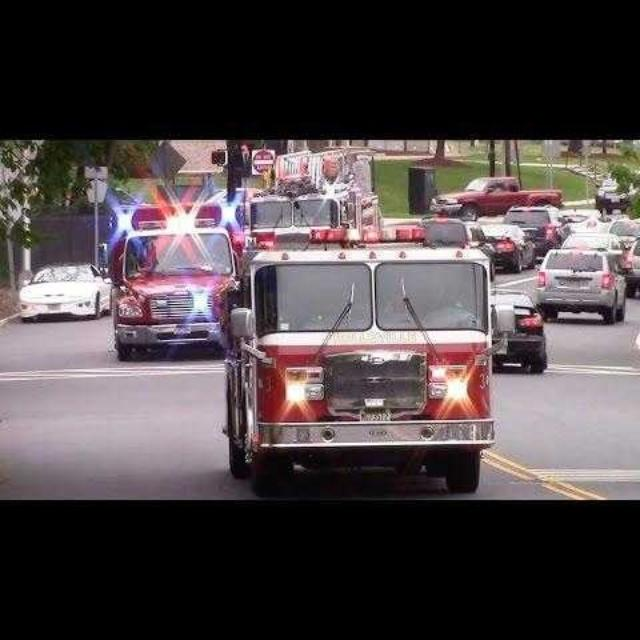emergency: (226, 226, 494, 498), (112, 202, 245, 362), (246, 147, 380, 280)
